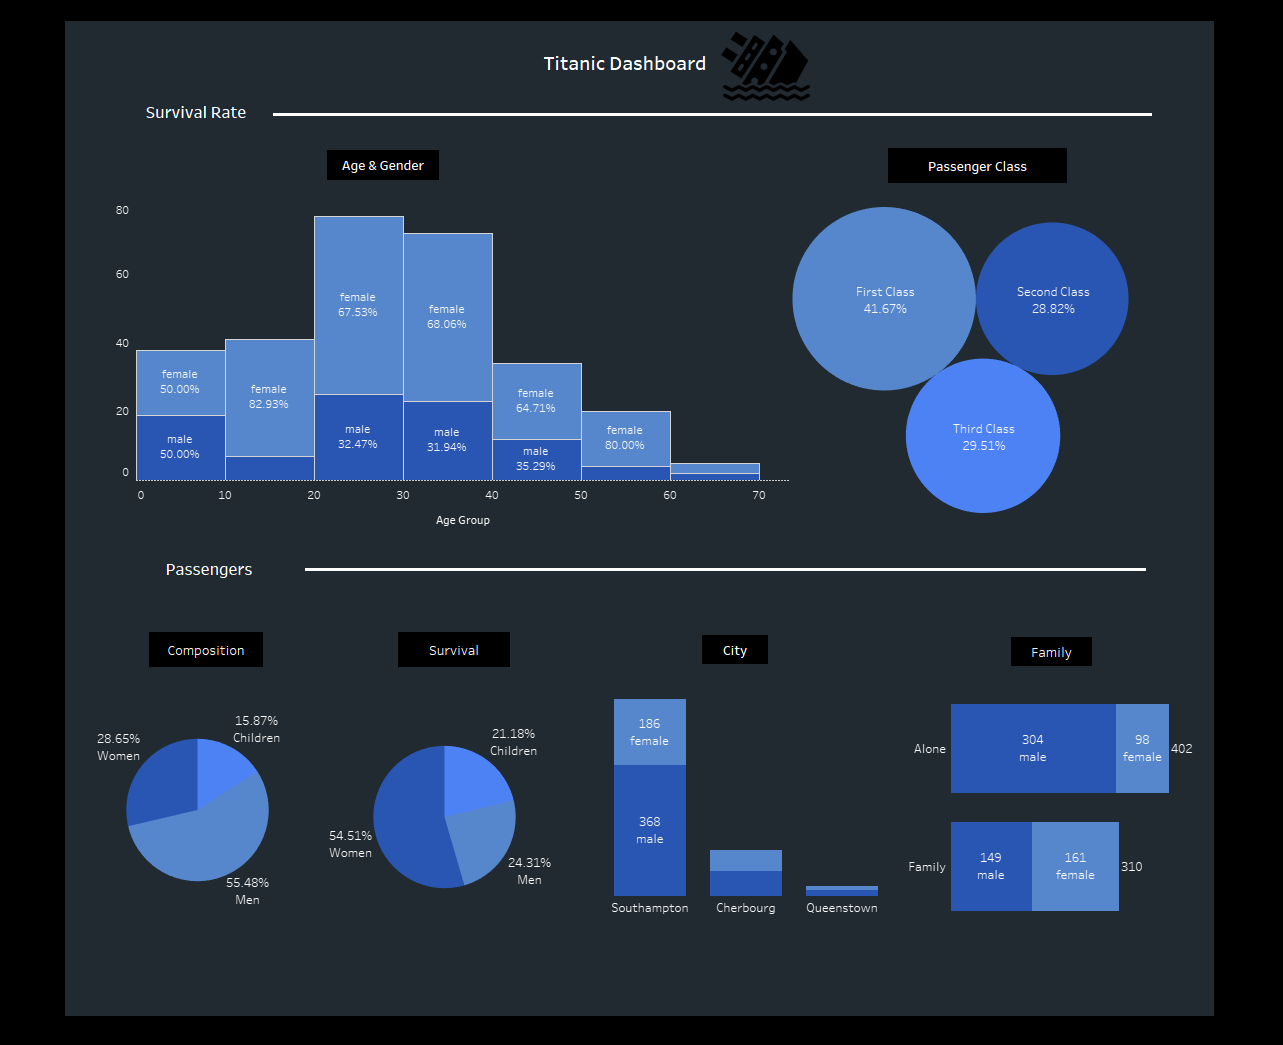

What the dashboard file says about the page in this screenshot:
{"tool":"tableau","page":{"name":"Dashboard 1","canvas":[1200,1150],"ordinal":0},"visuals":[{"type":"text","box":[0,0,911,89]},{"type":"image","param":"Image/kisspng-sinking-of-the-rms-titanic-ship-clip-art-small-ocean-cliparts-5aad","box":[911,0,123,89]},{"type":"blank","box":[1034,0,166,89]},{"type":"text","box":[0,89,1200,50]},{"type":"worksheet","title":"Pclass","mark":"Text","rows":["Pclass"],"box":[0,139,200,283]},{"type":"worksheet","title":"M VS F Survival Rate","mark":"Bar","rows":["Gender & Sex"],"cols":["Age (copy)_1233141929016918018"],"box":[200,139,792,283]},{"type":"worksheet","title":"M/W/C  Survival Rate","mark":"Pie","rows":["Calculation_900157031705534465","Calculation_900157031705534465"],"box":[992,139,208,283]},{"type":"text","box":[0,422,1200,91]},{"type":"worksheet","title":"City","mark":"Automatic","rows":["Age"],"cols":["Embarked"],"box":[0,513,384,206]},{"type":"worksheet","title":"Alove VS Family","mark":"Automatic","rows":["Calculation_900157031713914883"],"cols":["Age"],"box":[384,513,599,206]},{"type":"worksheet","title":"Survived VS died","mark":"Pie","box":[983,513,217,206]},{"type":"blank","box":[8,574.8,1184,567.2]},{"type":"text","box":[0,719,1200,67]},{"type":"blank","box":[0,786,134,312]},{"type":"worksheet","title":"Passenger Details ","mark":"Shape","box":[134,786,932,312]},{"type":"blank","box":[1066,786,134,312]},{"type":"text","box":[0,1098,1200,23]},{"type":"blank","box":[0,1121,1200,29]}]}

Visuals, with their boxes on the page's 1200x1150 design canvas (x1, y1, x2, y2). These are canvas units, not pixel positions in the 1283x1045 screenshot, which may show the page scaled, cropped or inside an application window:
text: {"x1": 0, "y1": 0, "x2": 911, "y2": 89}
image: {"x1": 911, "y1": 0, "x2": 1034, "y2": 89}
blank: {"x1": 1034, "y1": 0, "x2": 1200, "y2": 89}
text: {"x1": 0, "y1": 89, "x2": 1200, "y2": 139}
"Pclass" worksheet (Text marks): {"x1": 0, "y1": 139, "x2": 200, "y2": 422}
"M VS F Survival Rate" worksheet (Bar marks): {"x1": 200, "y1": 139, "x2": 992, "y2": 422}
"M/W/C  Survival Rate" worksheet (Pie marks): {"x1": 992, "y1": 139, "x2": 1200, "y2": 422}
text: {"x1": 0, "y1": 422, "x2": 1200, "y2": 513}
"City" worksheet: {"x1": 0, "y1": 513, "x2": 384, "y2": 719}
"Alove VS Family" worksheet: {"x1": 384, "y1": 513, "x2": 983, "y2": 719}
"Survived VS died" worksheet (Pie marks): {"x1": 983, "y1": 513, "x2": 1200, "y2": 719}
blank: {"x1": 8, "y1": 575, "x2": 1192, "y2": 1142}
text: {"x1": 0, "y1": 719, "x2": 1200, "y2": 786}
blank: {"x1": 0, "y1": 786, "x2": 134, "y2": 1098}
"Passenger Details " worksheet (Shape marks): {"x1": 134, "y1": 786, "x2": 1066, "y2": 1098}
blank: {"x1": 1066, "y1": 786, "x2": 1200, "y2": 1098}
text: {"x1": 0, "y1": 1098, "x2": 1200, "y2": 1121}
blank: {"x1": 0, "y1": 1121, "x2": 1200, "y2": 1150}
